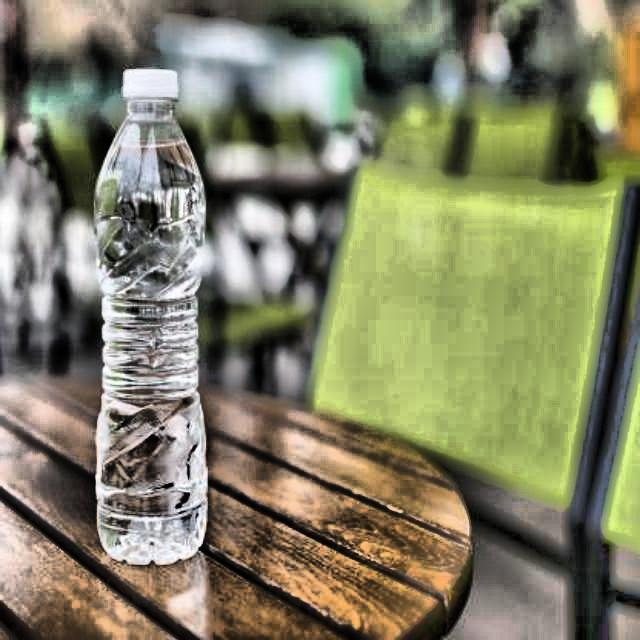Bottles: (84, 69, 221, 565)
